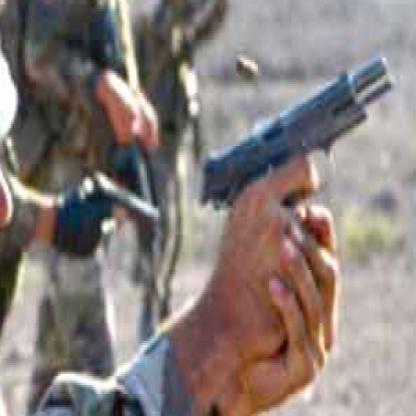gun: (192, 40, 406, 347), (72, 162, 168, 252)
